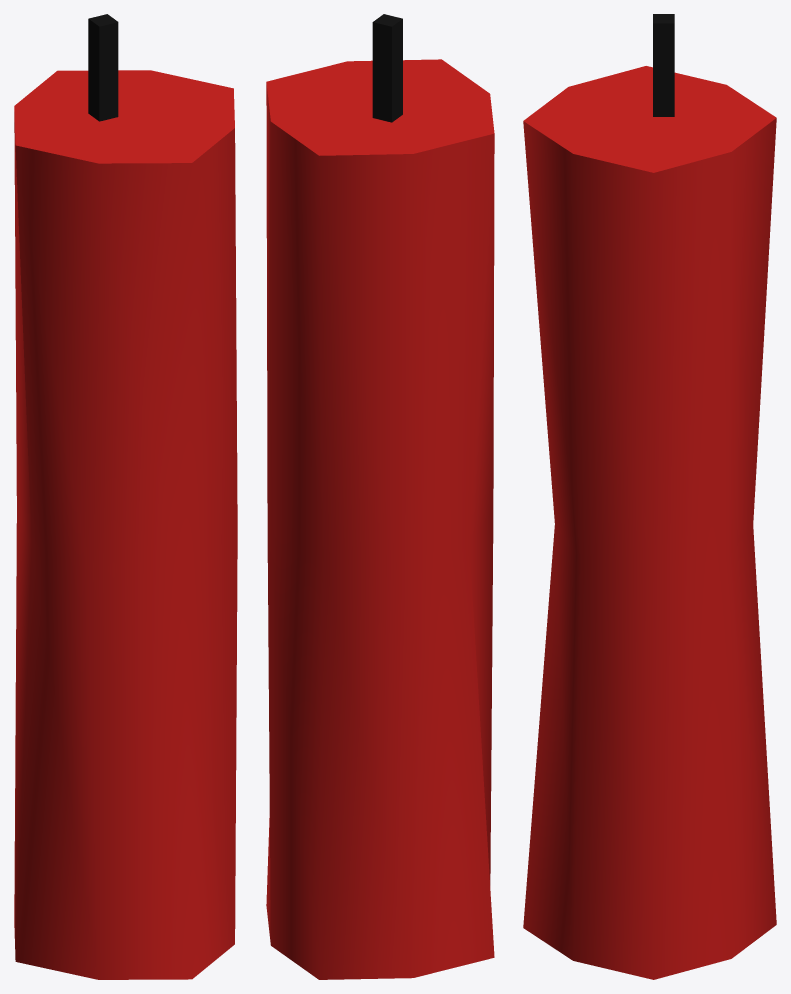
The model's file is candleStickRed.gltf.
3 renders of one model, left to right at view 1: azimuth 30°, elevation 25°; view 2: azimuth 150°, elevation 25°; view 3: azimuth 270°, elevation 25°, orthographic. The views are drawn at different scales.
Parts seen in each view (by area): view 1: bougie1, Cube; view 2: bougie1, Cube; view 3: bougie1, Cube.
Part boxes in pixels (x1,y1,x2,y2): bougie1: [14, 70, 237, 979]; Cube: [88, 14, 118, 121]; bougie1: [266, 59, 494, 979]; Cube: [372, 14, 402, 122]; bougie1: [523, 66, 776, 979]; Cube: [653, 14, 674, 116].
Bounding box in the file's own units: 0.0234 × 0.0916 × 0.0234.
